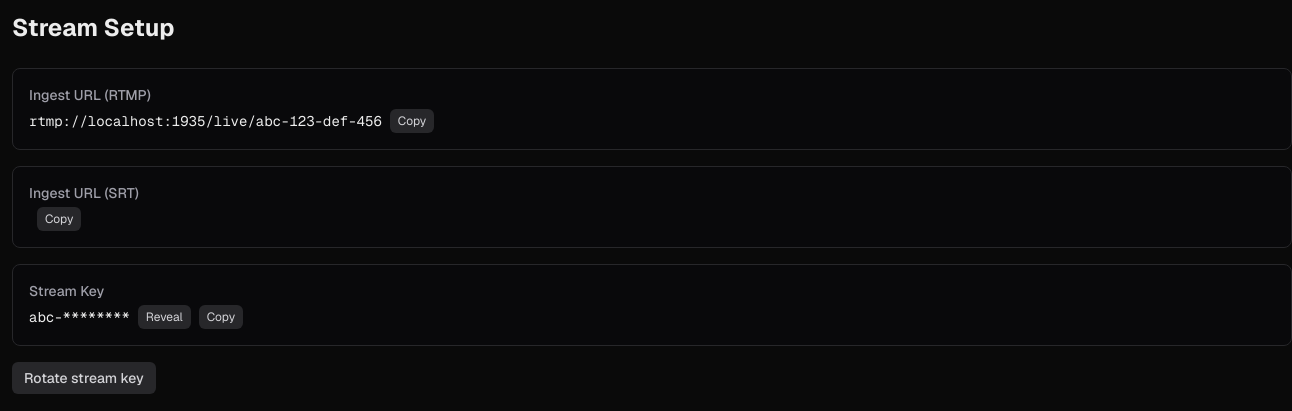
Scenario: StreamSetup › reveals stream key when toggle is clicked
Expected: the text "rtmp://localhost:1935/live/abc-123-def-456" is shown, [29,111,382,131]
Click the button "Reveal".
click(164, 317)  # box [138,305,191,329]
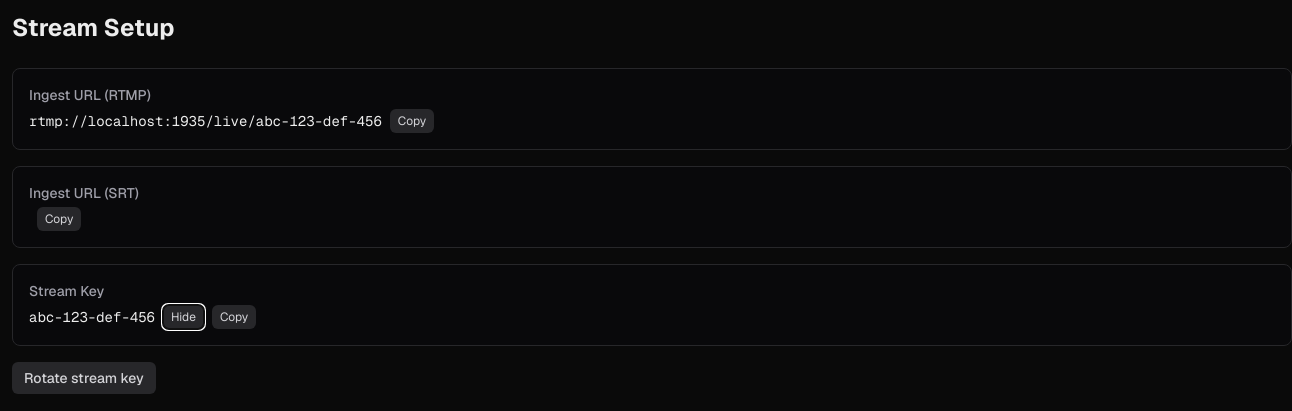
Expected: the text "abc-123-def-456" is shown, [29,307,155,327]
